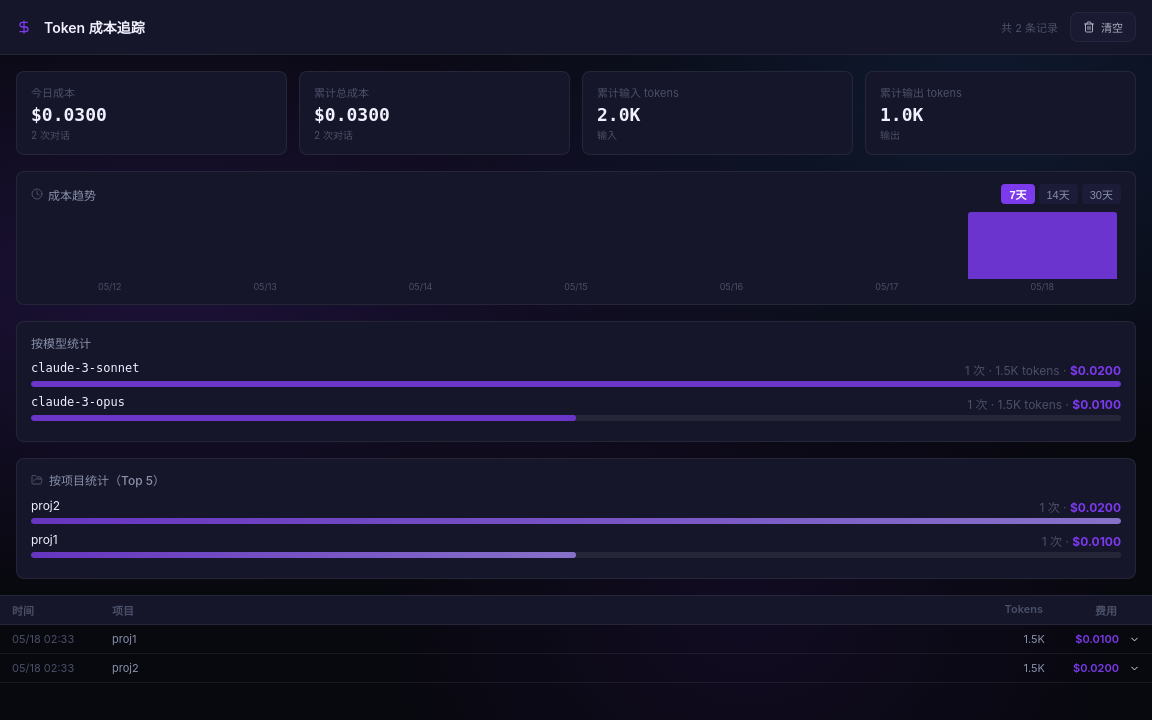
Test: CostPanel - 多条记录 › 点击取消后回到初始状态
Click the button "清空": (1103, 27) [1070,12,1136,42]
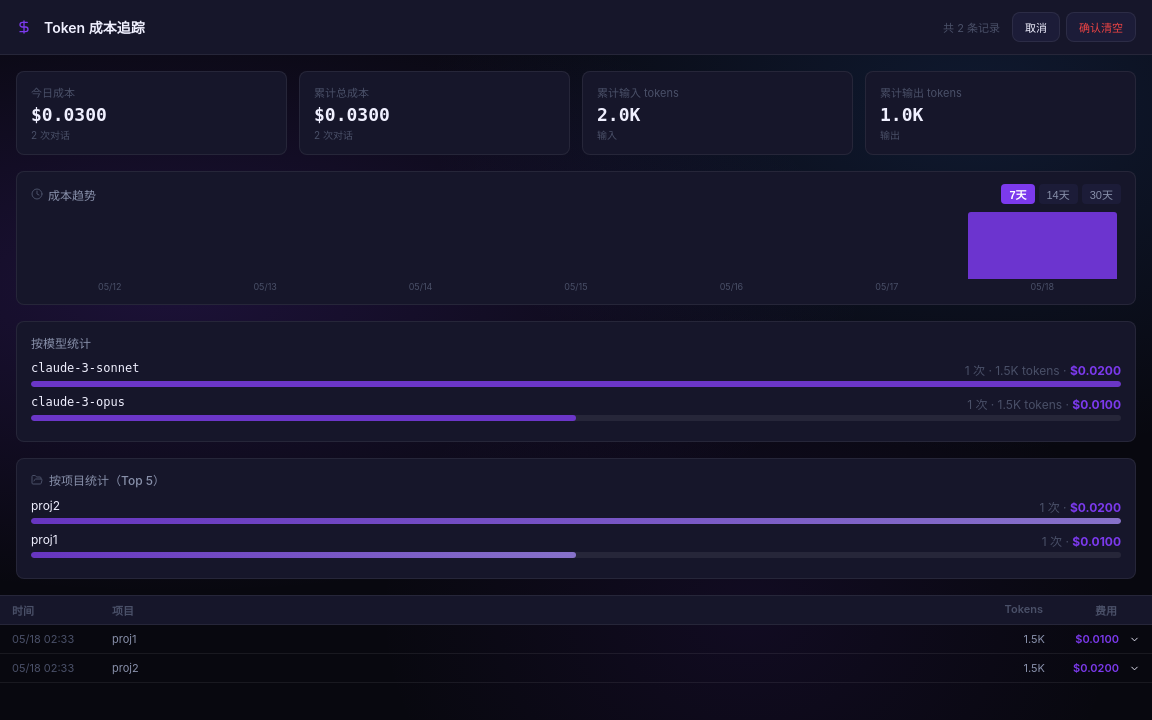
Click the button "取消": (1036, 27) [1012,12,1060,42]
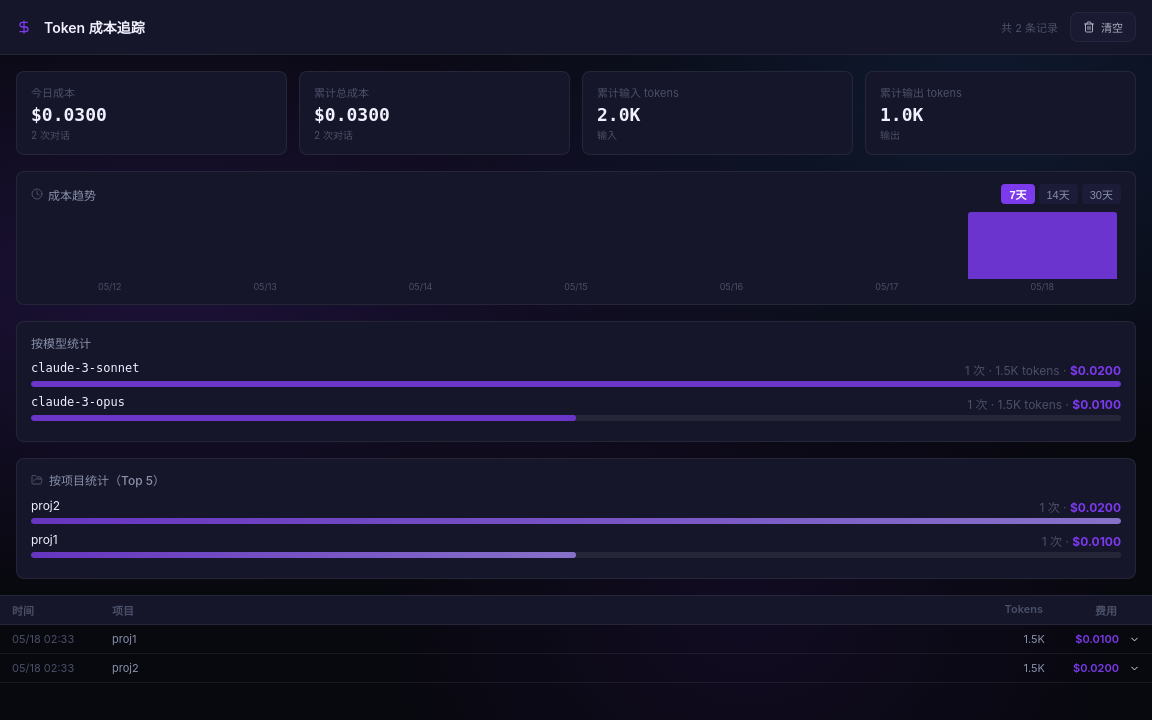
Now the button "确认清空" is gone
